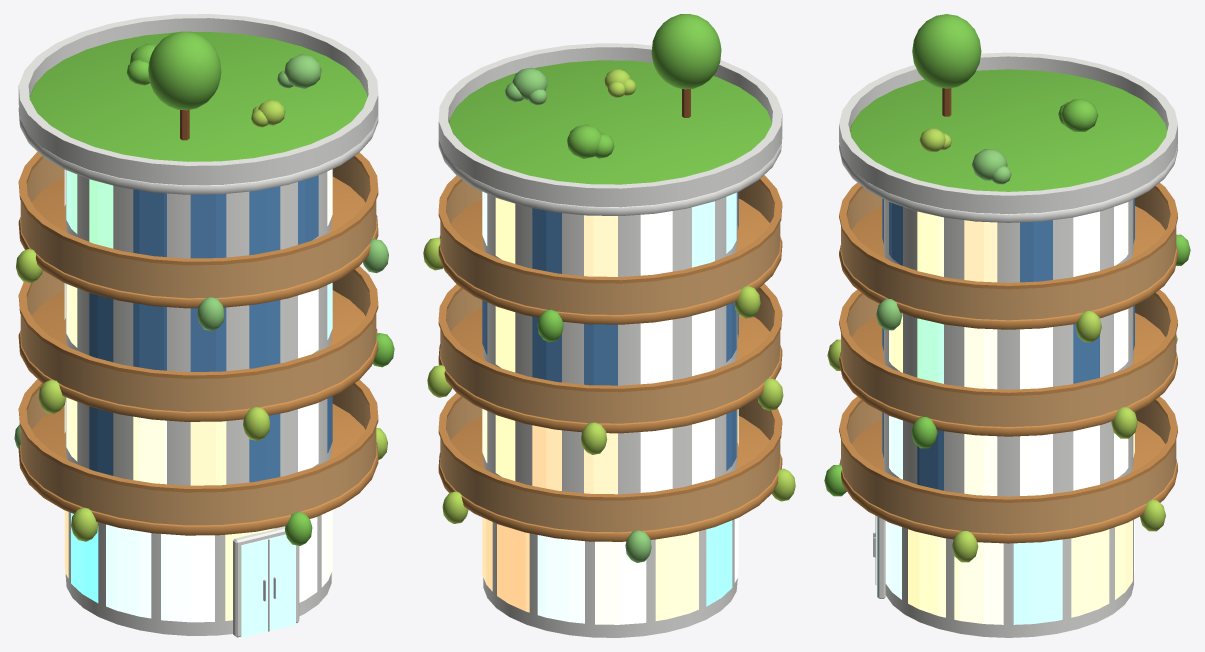
Rendered from predinho_redondo_varandas.glb.
3 renders of one model, left to right at view 1: azimuth 30°, elevation 25°; view 2: azimuth 150°, elevation 25°; view 3: azimuth 270°, elevation 25°, orthographic. The views are drawn at different scales.
Parts seen in each view (by area): view 1: predinho_redondo_varandas; view 2: predinho_redondo_varandas; view 3: predinho_redondo_varandas.
Part boxes in pixels (x1=…): predinho_redondo_varandas: x1=14, y1=14, x2=394, y2=637; predinho_redondo_varandas: x1=423, y1=14, x2=795, y2=637; predinho_redondo_varandas: x1=824, y1=14, x2=1190, y2=637.
Size of the model in its own units: 9.8 by 16.37 by 9.94.
7 materials, 1 textured.
